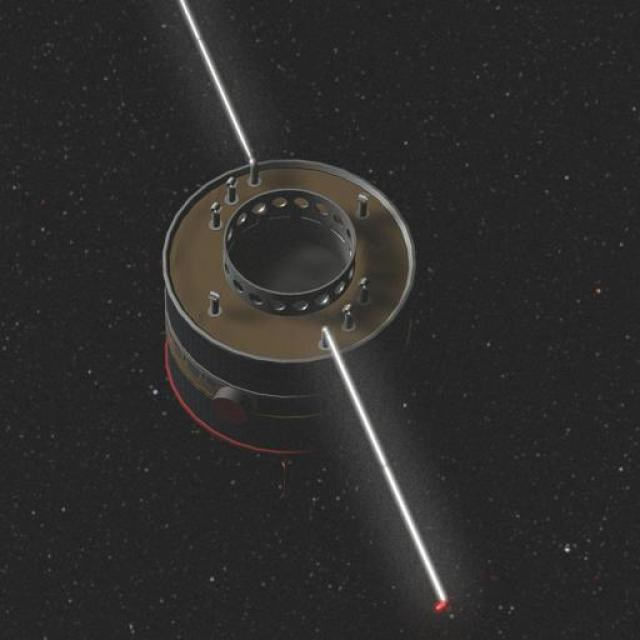double_start: (130, 152, 461, 463)
